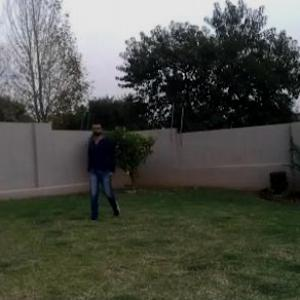follow: (84, 119, 118, 225)
